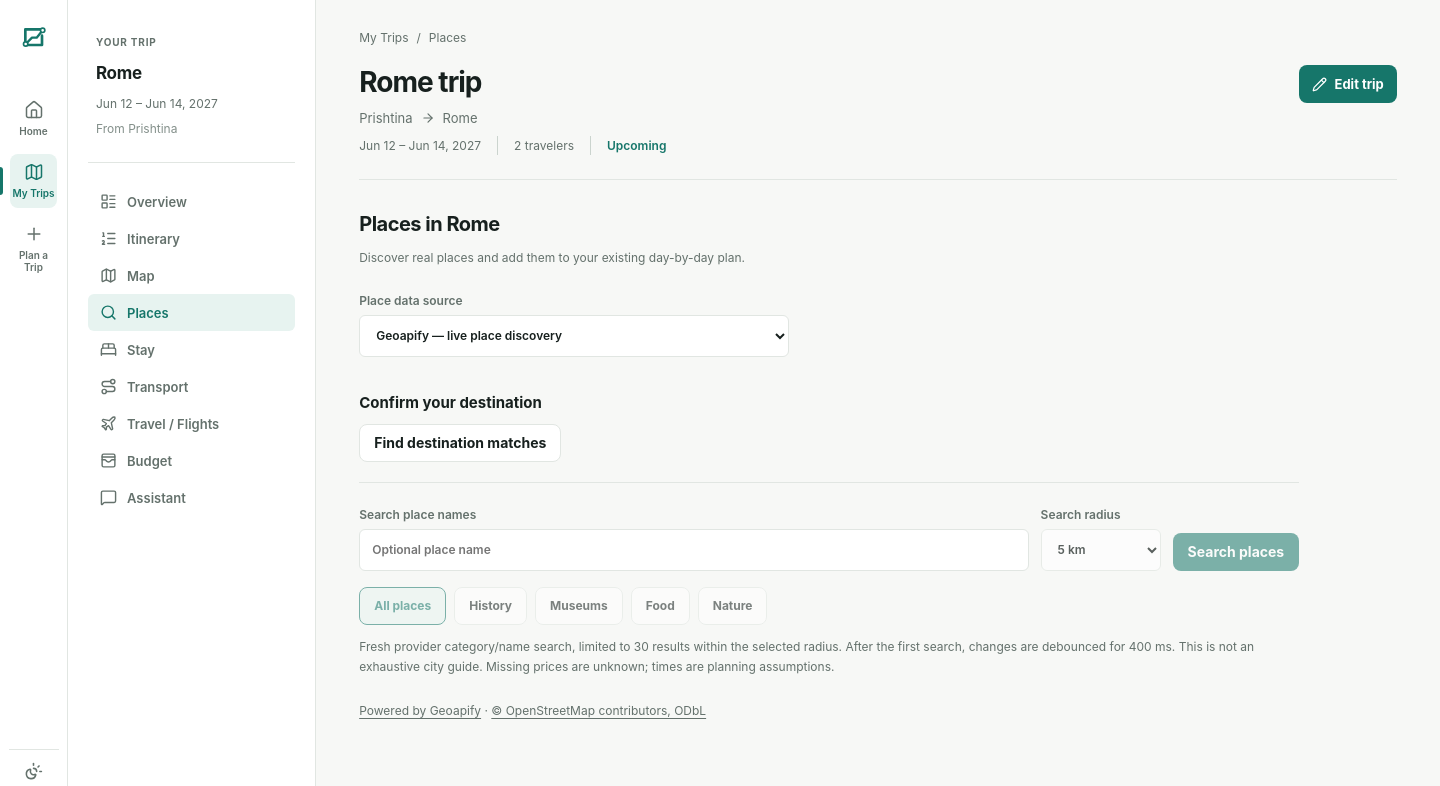
Test case: Places workspace with actual Geoapify adapter and mocked external responses › retains selected place when photo lookup fails and shows neutral imagery
The image size is (1440, 786).
Expected: the heading "Places in Rome" is shown, x1=359 y1=212 x2=500 y2=236
Click the button "Find destination matches".
click(460, 443)  # box x1=359 y1=424 x2=561 y2=462
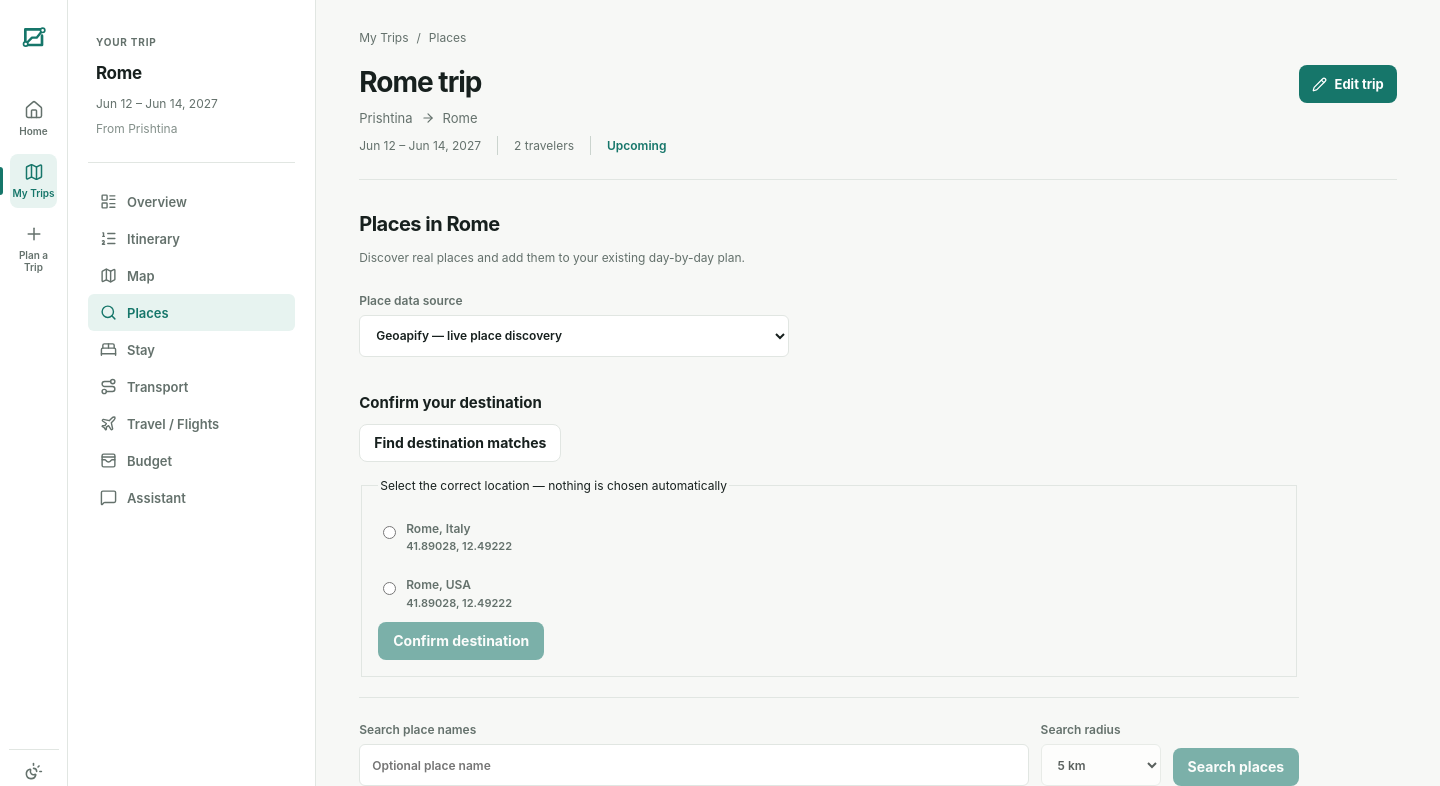
Expected: the radio button labelled "Rome, Italy 41.89028, 12.49222" is shown
Expected: the button "Confirm destination" is disabled, x1=378 y1=622 x2=544 y2=660
Click the radio button labelled "Rome, Italy 41.89028, 12.49222".
click(390, 532)  # box x1=383 y1=526 x2=396 y2=539
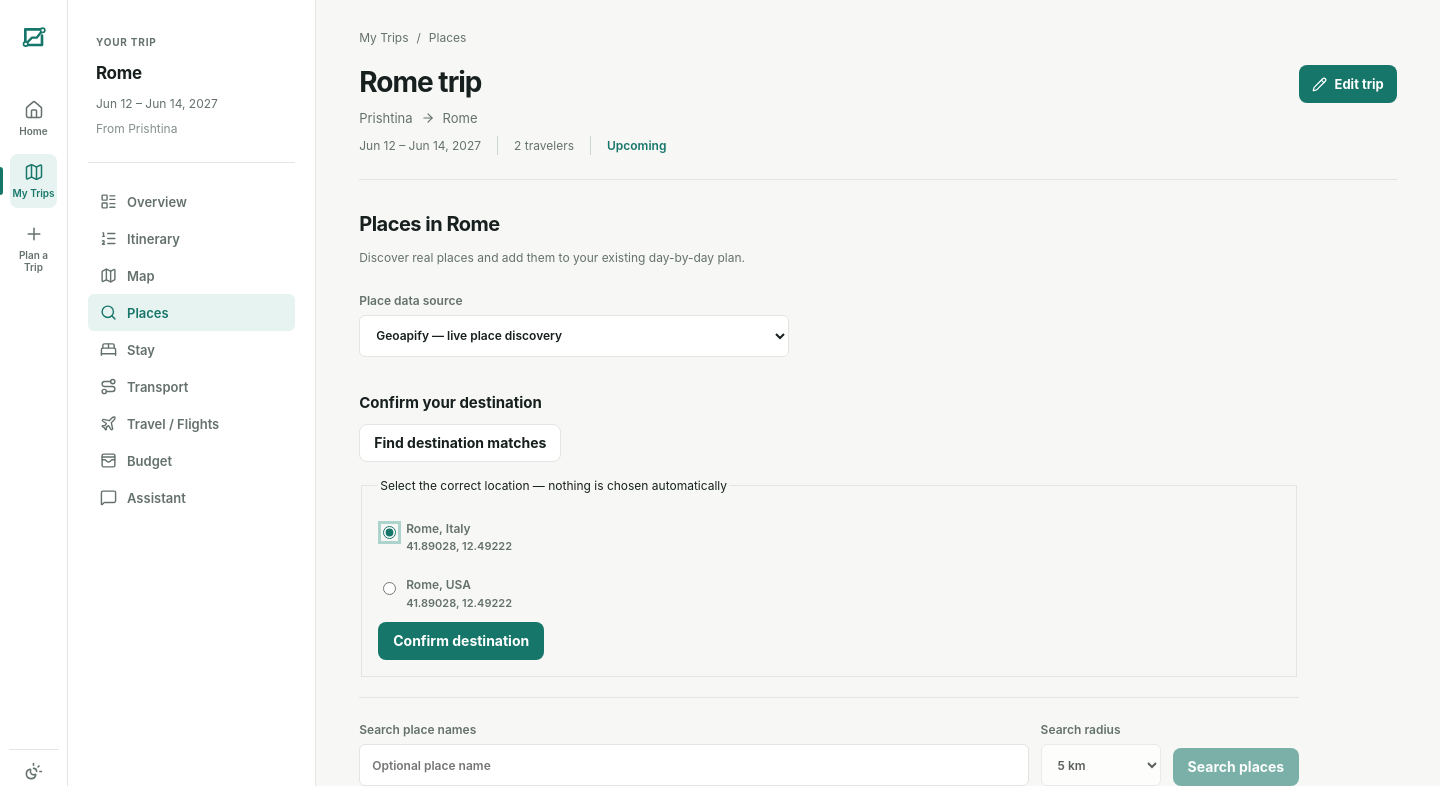
Click the button "Confirm destination".
click(461, 641)  # box x1=378 y1=622 x2=544 y2=660
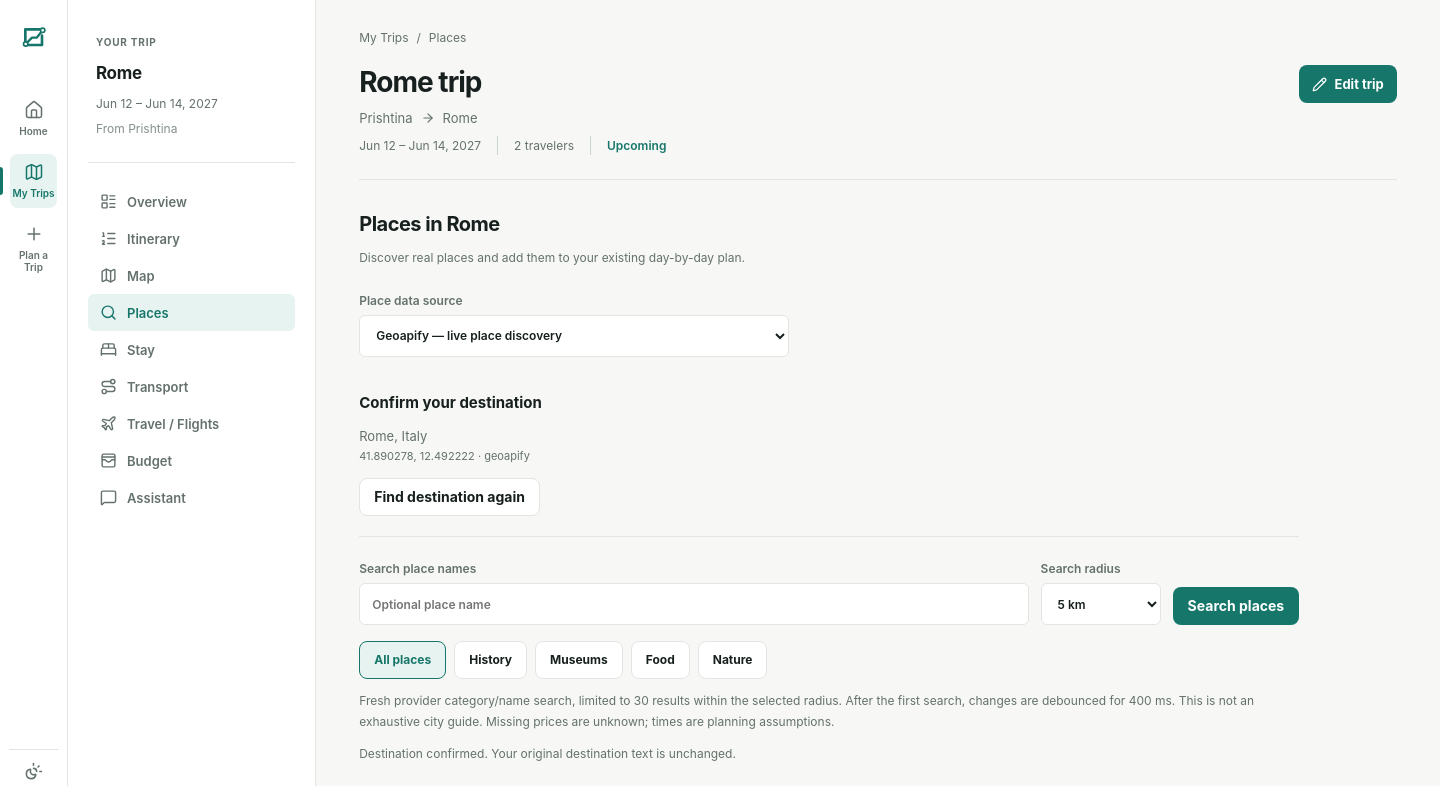
Expected: the button "Search places" is enabled
Click the button "Search places".
click(1236, 606)  # box x1=1173 y1=587 x2=1299 y2=625
(page scrolled)
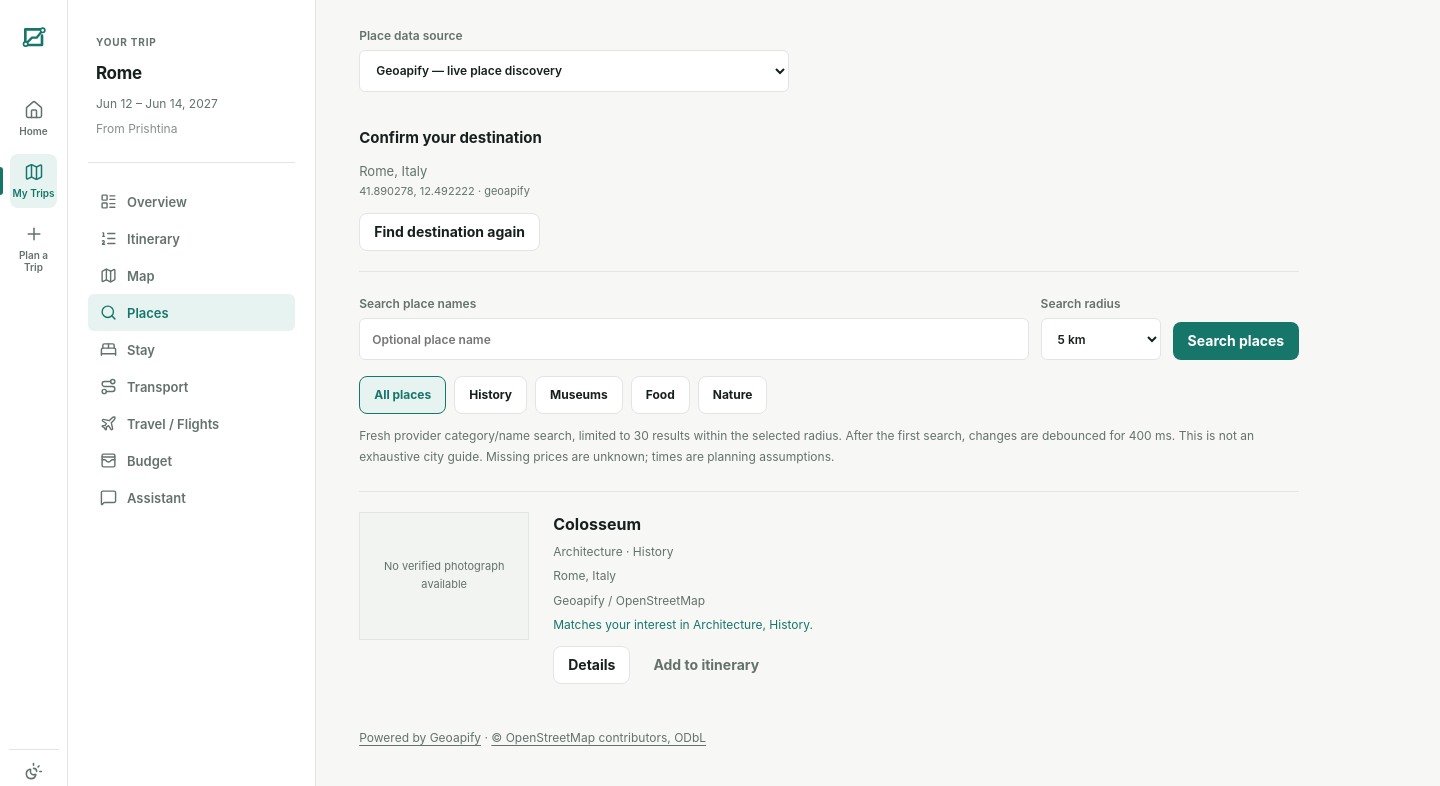
Expected: the button with aria-label "Details for Colosseum" is shown
Click the button with aria-label "Details for Colosseum".
click(592, 665)  # box x1=553 y1=646 x2=630 y2=684
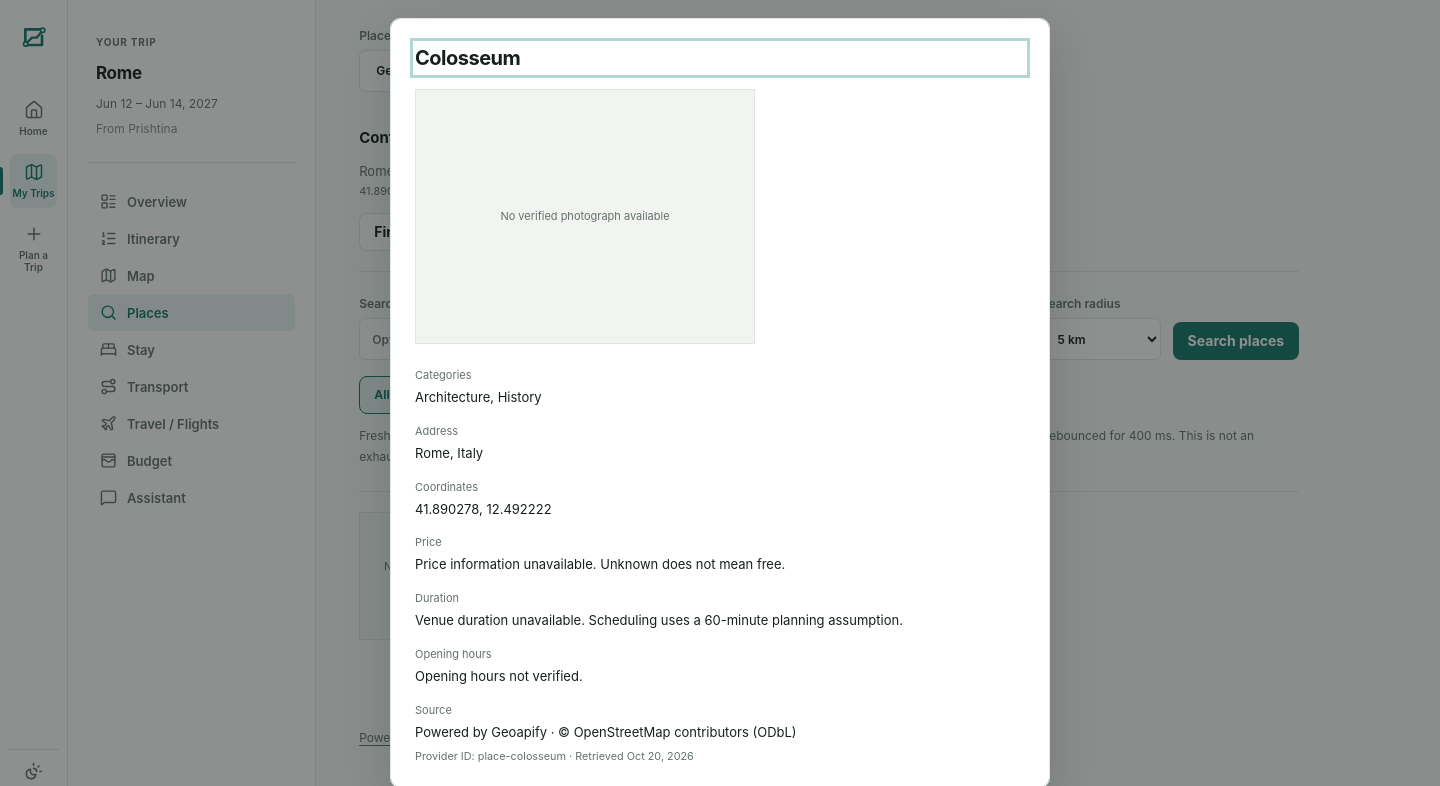
Expected: the dialog shows "No verified photograph available", x1=500 y1=209 x2=670 y2=223
Expected: the dialog shows "Colosseum", x1=415 y1=46 x2=520 y2=70
